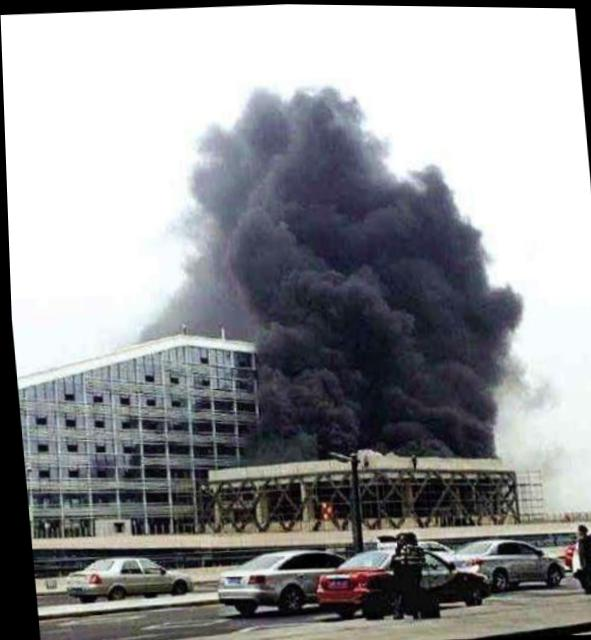smoke: (265, 266, 518, 370), (258, 147, 456, 279), (263, 359, 502, 454), (244, 70, 365, 152), (175, 214, 264, 324), (191, 114, 261, 218)
